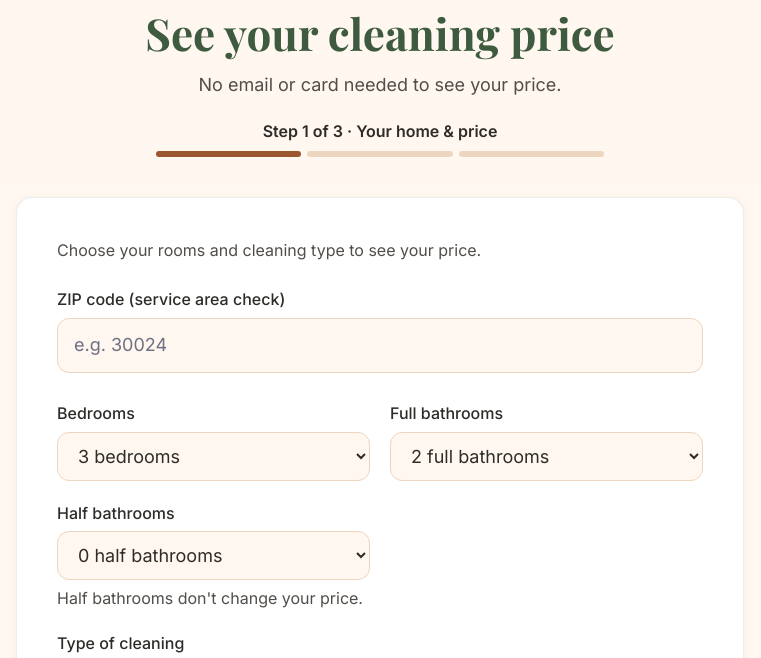
ChatGPT round 3 lows — ZIP example and spaces; date field labelled › a partial ZIP hint shows an example (30518, a real service ZIP)
In the field labelled "ZIP code (service area check)": (380, 345) [57,318,703,373], type "305"
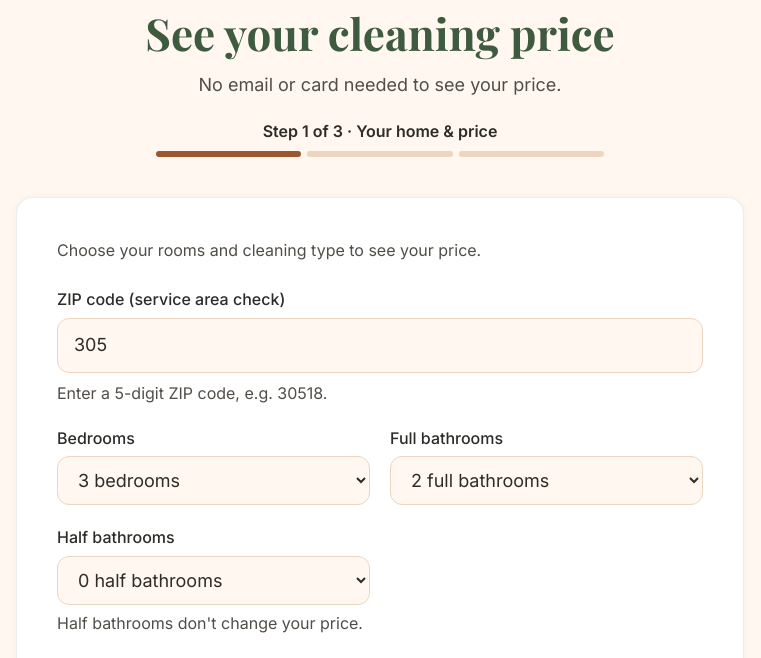
expect the text "Enter a 5-digit ZIP code, e.g. 30518." is shown: met, box [57,383,328,403]
